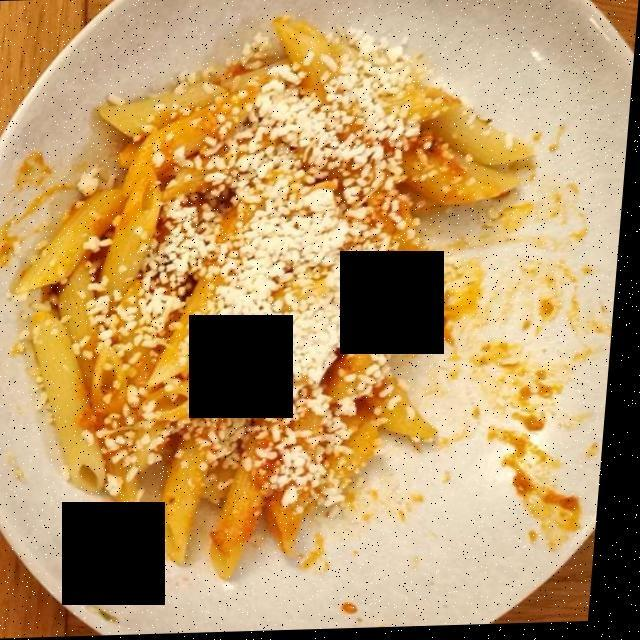cheese: (87, 59, 409, 442)
pasta: (29, 29, 531, 593)
